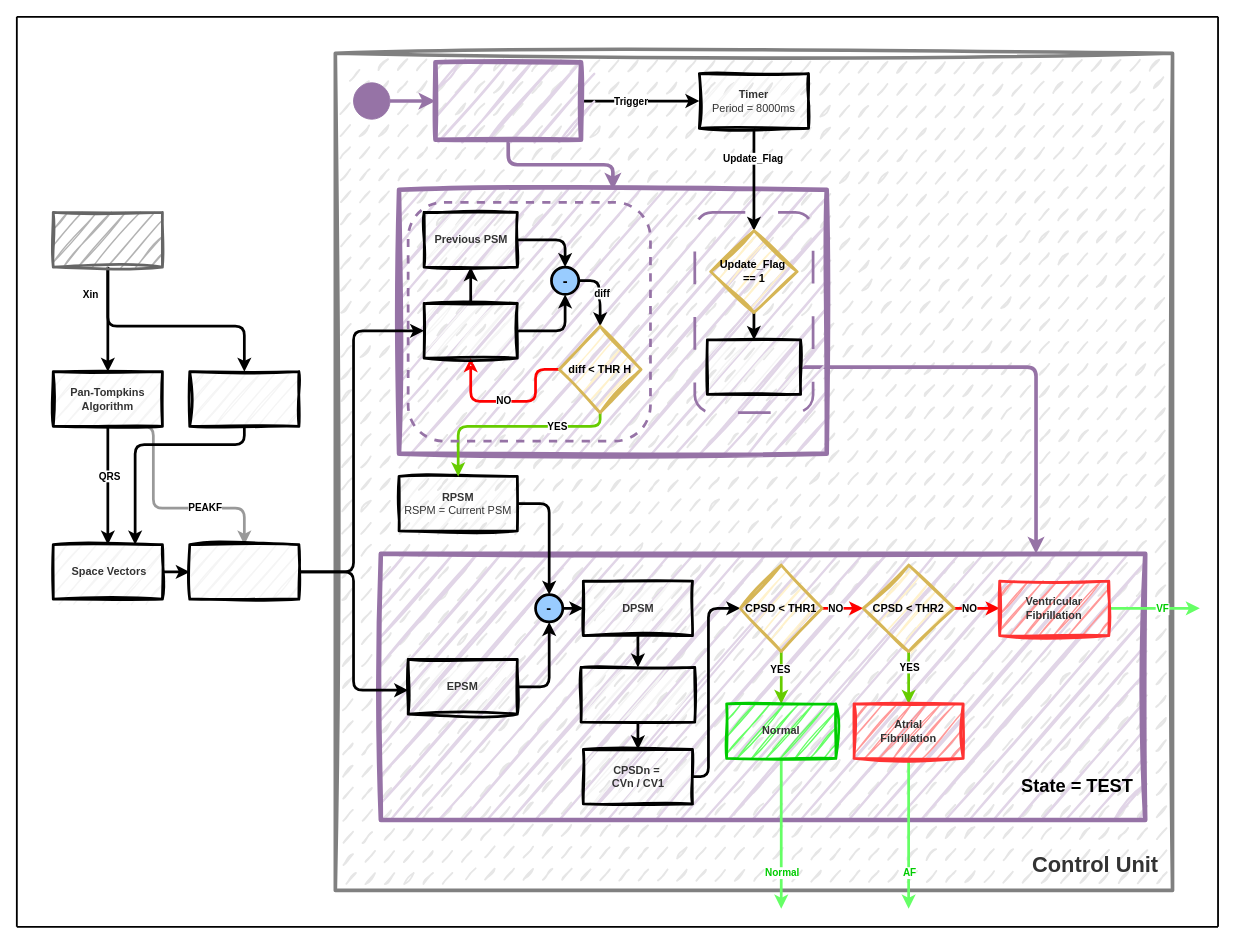
The diagram is 1235 pixels wide and 944 high, and some of its shapes have lost their labels. Each missing label, with the box of its shape:
Current PSM: (422, 302, 518, 359)
CV value non − zero term number: (579, 666, 696, 723)
Initial: (353, 82, 390, 119)
Quantized M = PEAKF, L = 6: (188, 543, 300, 600)
SAR ADC: (51, 211, 163, 268)
Shift Register d = 5: (188, 370, 300, 427)
State <== TEST: (706, 338, 802, 395)
State = START Trig a timer State <== TRAINING: (433, 60, 583, 142)
State = TRAINING: (396, 187, 829, 455)
